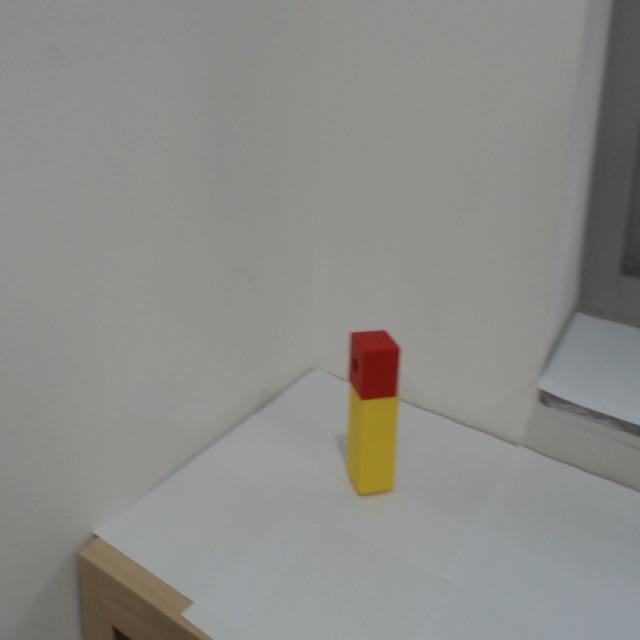cube: (344, 322, 400, 401)
